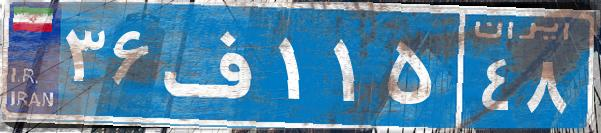1: (273, 28, 330, 110), (330, 28, 385, 110)
3: (57, 26, 110, 107)
4: (475, 38, 525, 113)
5: (385, 28, 445, 110)
6: (110, 28, 158, 105)
8: (525, 38, 570, 115)
ف: (158, 15, 273, 115)
